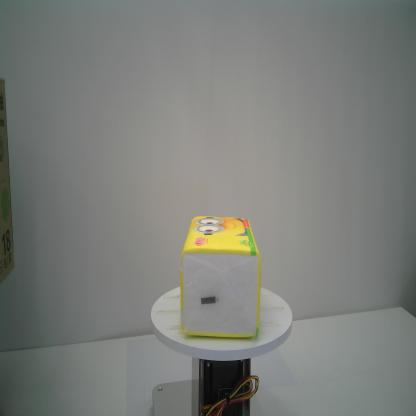Tissue: (179, 214, 263, 340)
